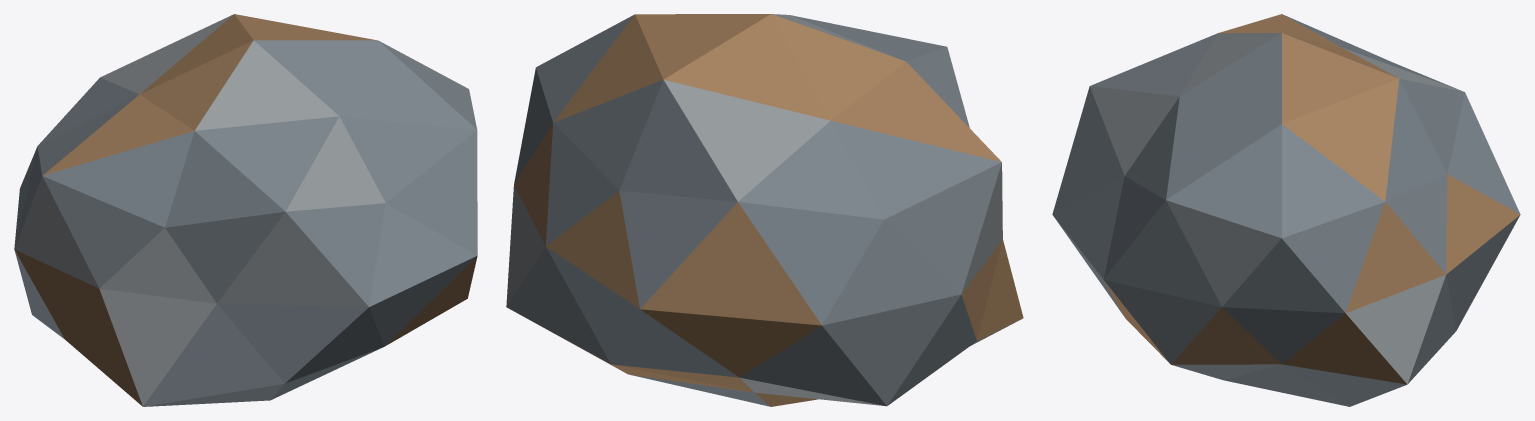
Rendered from SM_BulkIronOre.fbx.
3 renders of one model, left to right at view 1: azimuth 30°, elevation 25°; view 2: azimuth 150°, elevation 25°; view 3: azimuth 270°, elevation 25°, orthographic. The views are drawn at different scales.
Parts seen in each view (by area): view 1: SM_BulkIronOre; view 2: SM_BulkIronOre; view 3: SM_BulkIronOre.
Boxes of the visible parts, x1,y1,x2,y2 form: SM_BulkIronOre: [14, 14, 477, 406]; SM_BulkIronOre: [506, 14, 1023, 406]; SM_BulkIronOre: [1052, 14, 1520, 406].
Size of the model in its own units: 25.41 by 24.28 by 20.47.
